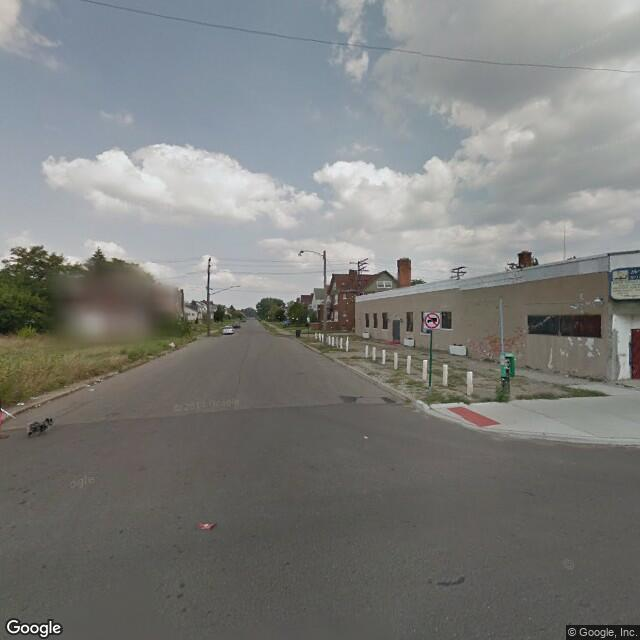litter: (197, 521, 215, 531), (360, 433, 372, 442), (88, 386, 95, 392), (18, 400, 24, 406), (169, 342, 175, 348)
